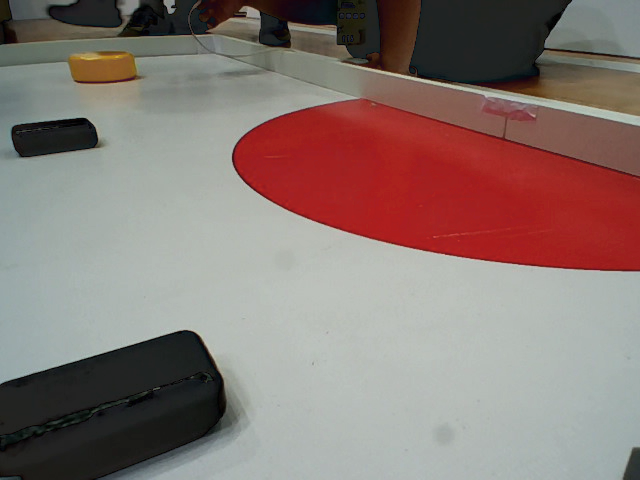black: (1, 329, 234, 469), (11, 118, 99, 155)
yellow: (67, 51, 142, 82)
